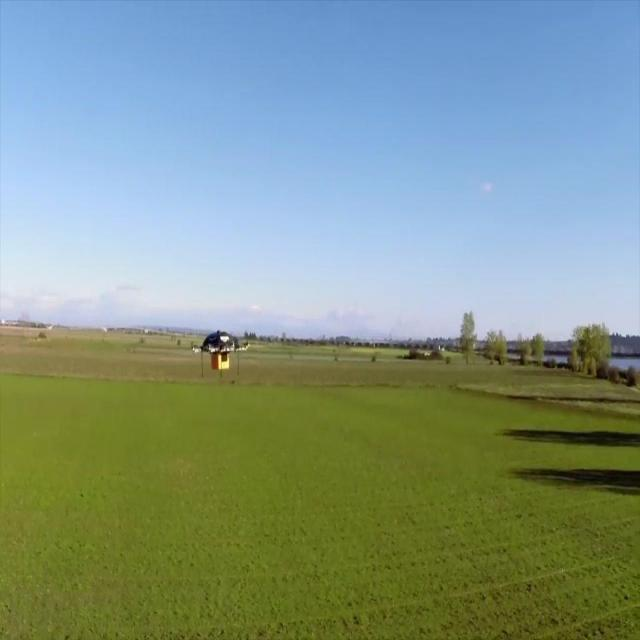drone: (189, 329, 252, 386)
